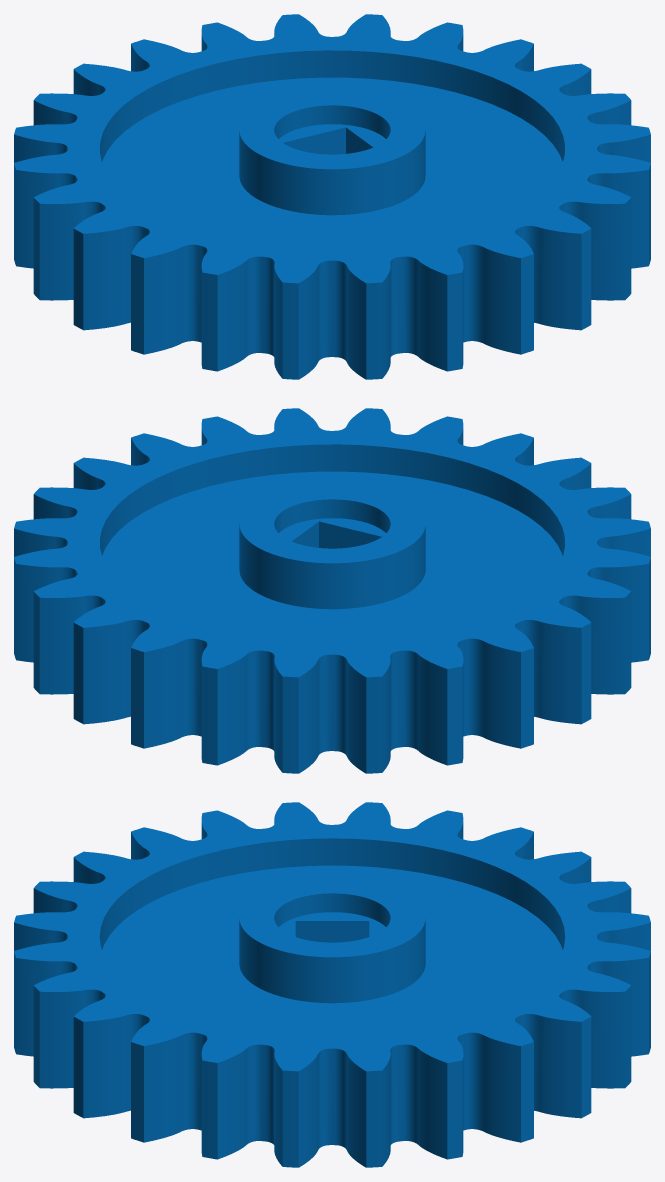
3 views of the same model, one above another, from view 1: azimuth 30°, elevation 25°; view 2: azimuth 150°, elevation 25°; view 3: azimuth 270°, elevation 25° (orthographic).
Parts seen in each view (by area): view 1: 228-2500-227; view 2: 228-2500-227; view 3: 228-2500-227.
Boxes of the visible parts, box(x1,y1,x2,y2) form: 228-2500-227: box(14, 14, 650, 379); 228-2500-227: box(14, 408, 650, 773); 228-2500-227: box(14, 802, 650, 1167).
Size of the model in its own units: 0.0274 by 0.00635 by 0.0274.
